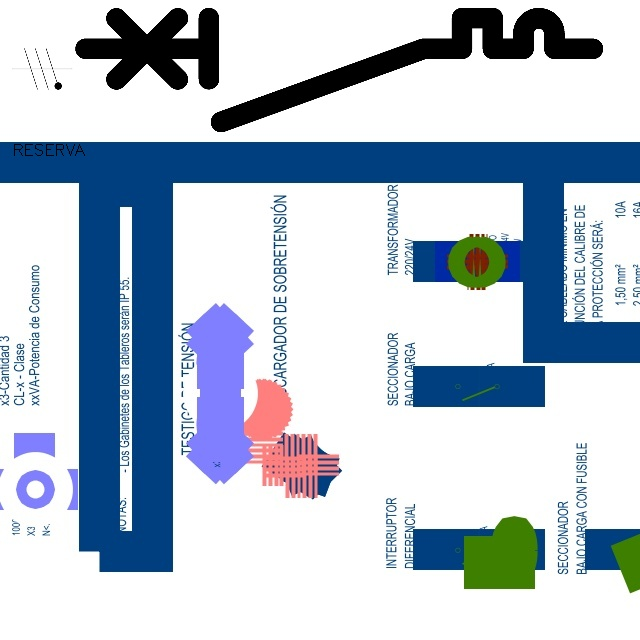interruptor_termomagnetico: (72, 5, 605, 135)
